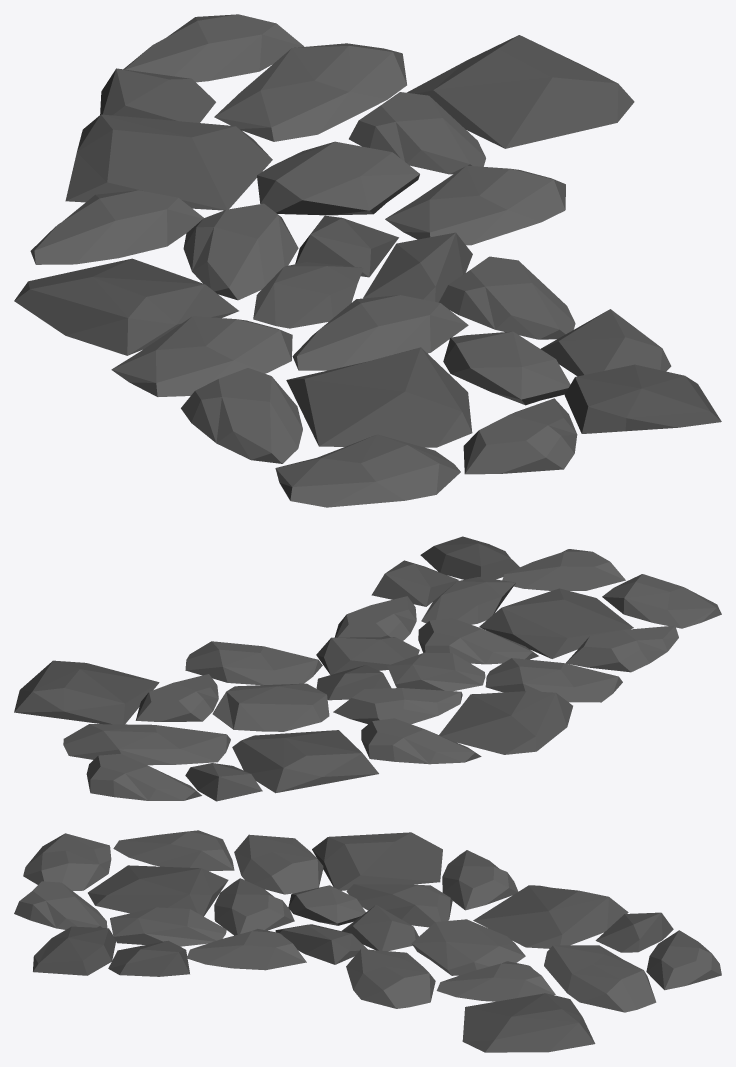
Rendered from road_stone_right_smooth.fbx.
The picture shows the model from 3 angles, top to bottom: view 1: azimuth 30°, elevation 25°; view 2: azimuth 150°, elevation 25°; view 3: azimuth 270°, elevation 25°; orthographic projection. The views are drawn at different scales.
Parts seen in each view (by area): view 1: road_stone_right; view 2: road_stone_right; view 3: road_stone_right.
Boxes of the visible parts, bbox=[...] form: road_stone_right: bbox=[14, 14, 721, 507]; road_stone_right: bbox=[14, 536, 721, 801]; road_stone_right: bbox=[14, 830, 721, 1052].
Bounding box in the file's own units: 220 × 10.31 × 309.
